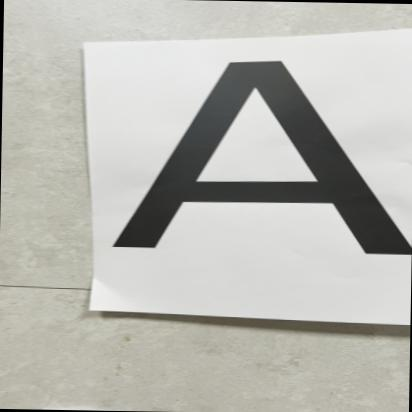seat: (96, 51, 412, 299)
